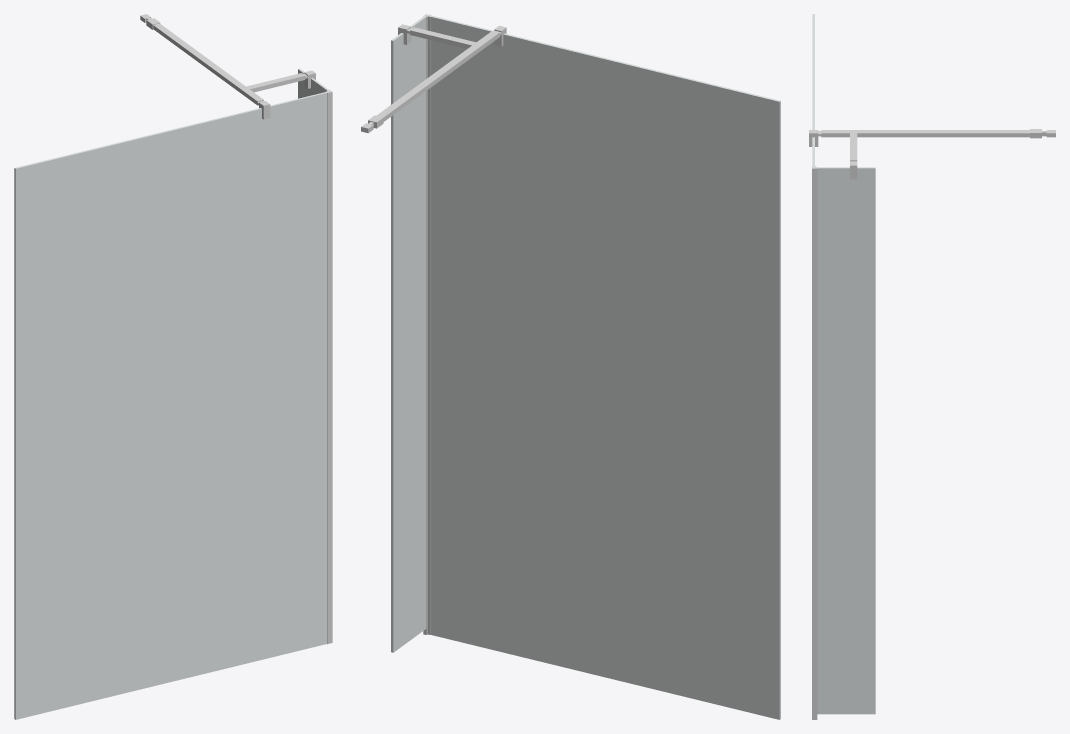
File: AEC_49175.glb
3 views of the same model, side by side, from view 1: azimuth 30°, elevation 25°; view 2: azimuth 150°, elevation 25°; view 3: azimuth 270°, elevation 25° (orthographic). The views are drawn at different scales.
Visible parts, largest first — view 1: 0; view 2: 0; view 3: 0.
Part boxes in pixels (<box>): 0: <box>14,14,332,719</box>; 0: <box>361,14,780,719</box>; 0: <box>809,14,1055,719</box>.
Size of the model in its own units: 1.21 by 2.02 by 0.8111.
Materials: 1 (1 with a texture image).
